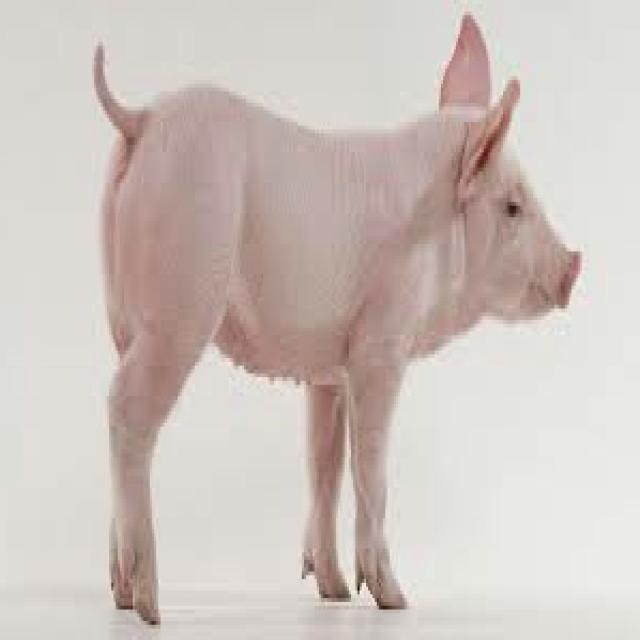pig: (96, 15, 582, 617)
